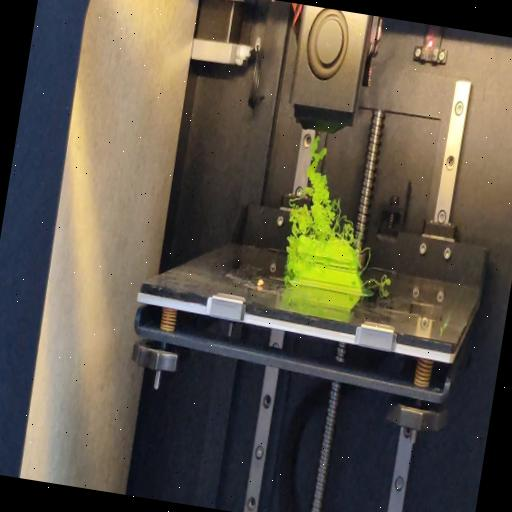spaghetti: (284, 132, 380, 244), (280, 236, 298, 284), (360, 270, 394, 294), (358, 242, 374, 278)
